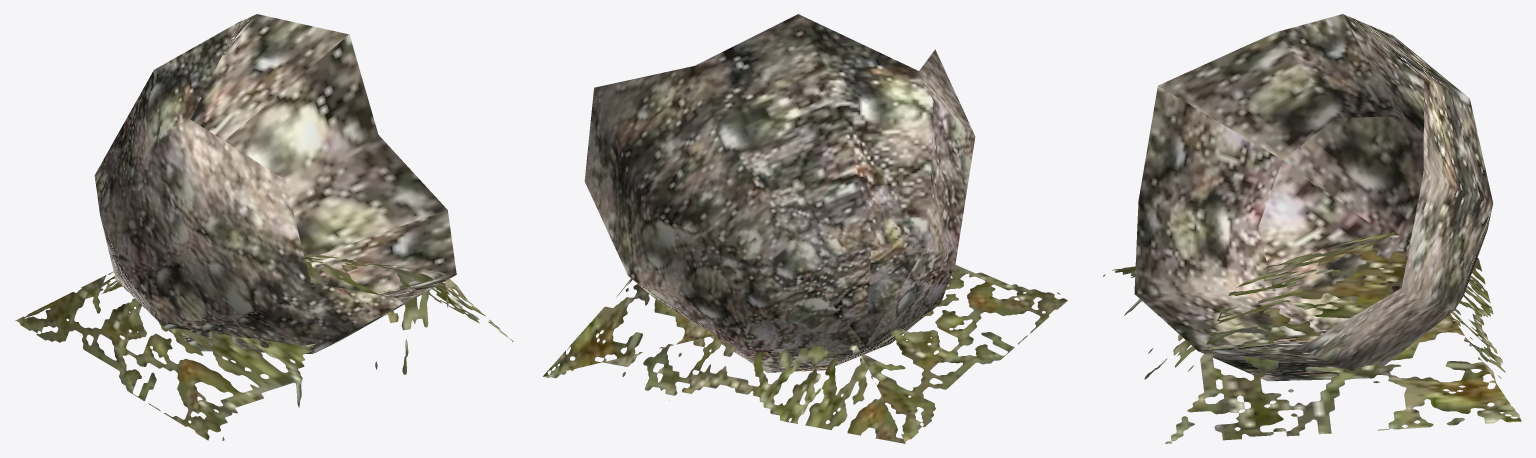
The model's file is KM_VOB_OPENEGG.glb.
3 views of the same model, side by side, from view 1: azimuth 30°, elevation 25°; view 2: azimuth 150°, elevation 25°; view 3: azimuth 270°, elevation 25° (orthographic). The views are drawn at different scales.
Visible parts, largest first — view 1: Mesh; view 2: Mesh; view 3: Mesh.
Part boxes in pixels (box(x1,y1,x2,y2)): Mesh: box(15, 14, 513, 440); Mesh: box(543, 14, 1067, 443); Mesh: box(1103, 14, 1521, 443).
Size of the model in its own units: 1.15 by 0.9819 by 1.1.
Materials: 2 (2 with a texture image).
